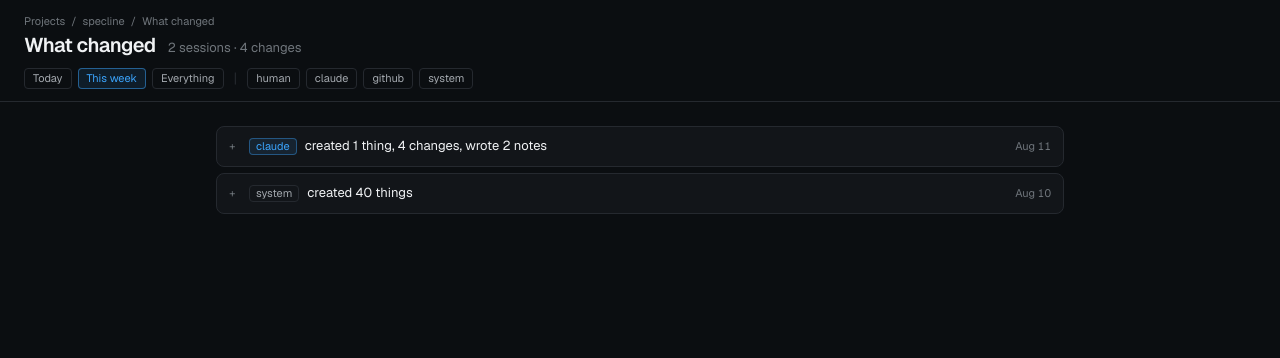
Test: sessions › keeps a session collapsed until it is asked to open
Expected: the text "created task “specline ready”" is not shown
Step 1. Click the text "created 1 thing, 4 changes, wrote 2 notes" → (426, 146), box left=305, top=137, right=547, bottom=154
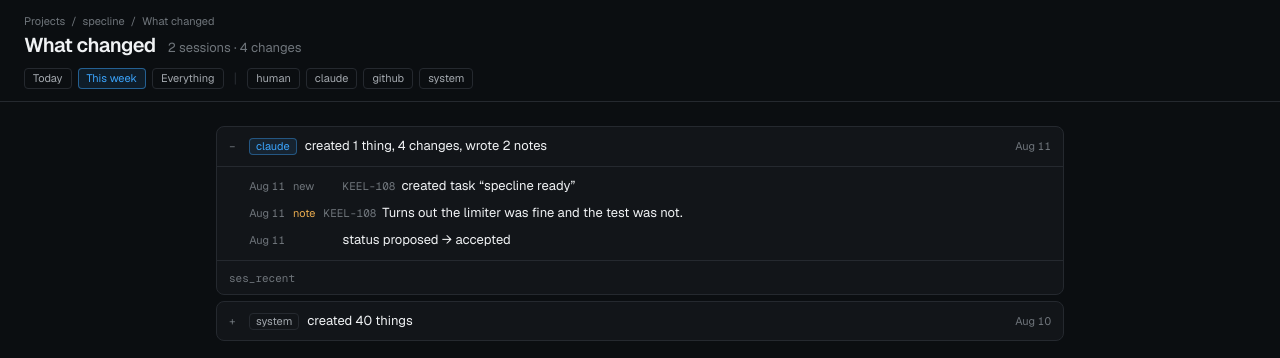
Result: the link "KEEL-108created task “specline ready”" is shown at left=343, top=177, right=575, bottom=194
